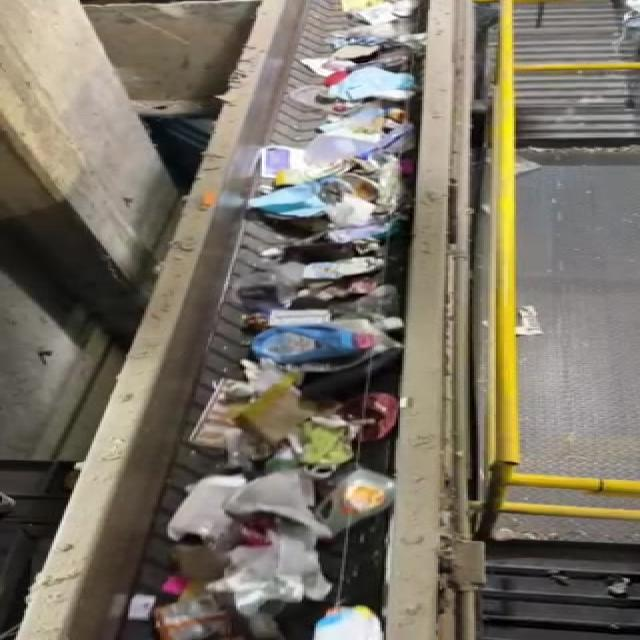hdpe: (320, 462, 419, 552), (243, 321, 376, 366)
paper: (198, 376, 324, 463), (233, 535, 332, 618)
pp: (344, 387, 416, 456)
ps: (147, 468, 239, 548)
